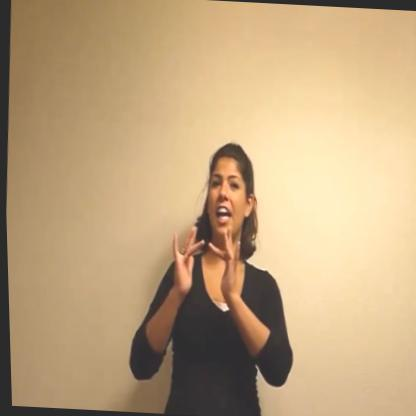Internet: (118, 129, 308, 416)
